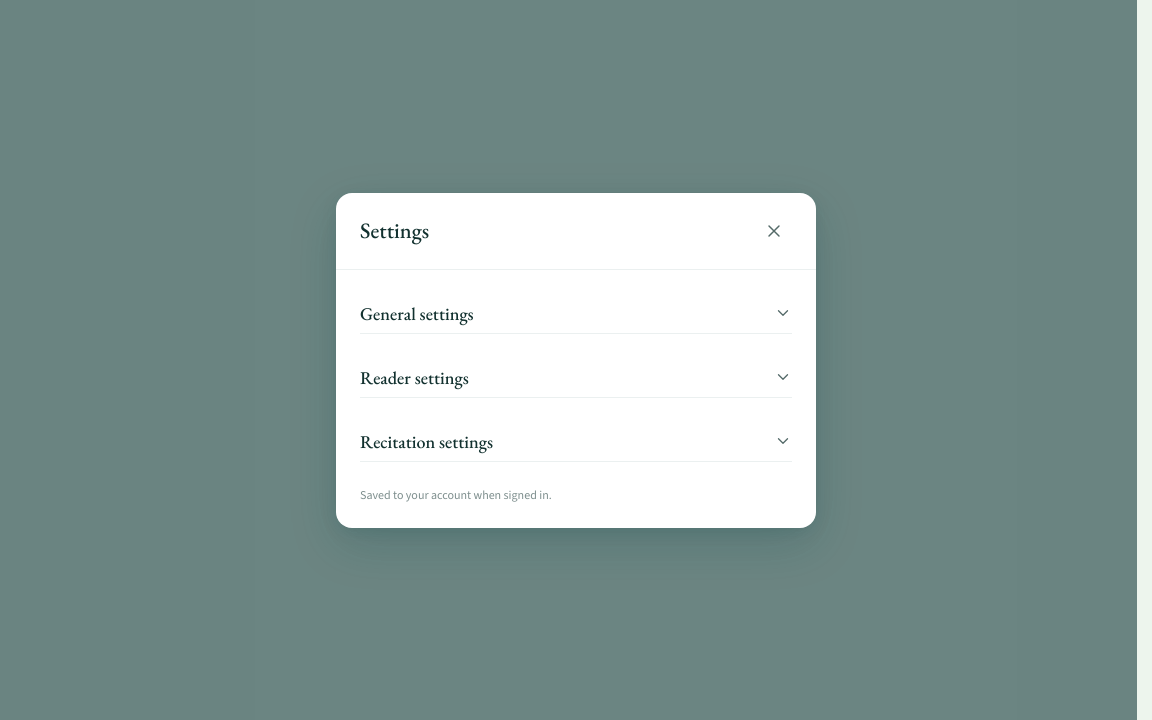
Scenario: SettingsSheet reader section › toggles open and closed
Click the button "Reader settings" at (414, 377), box [360,358,792,396]
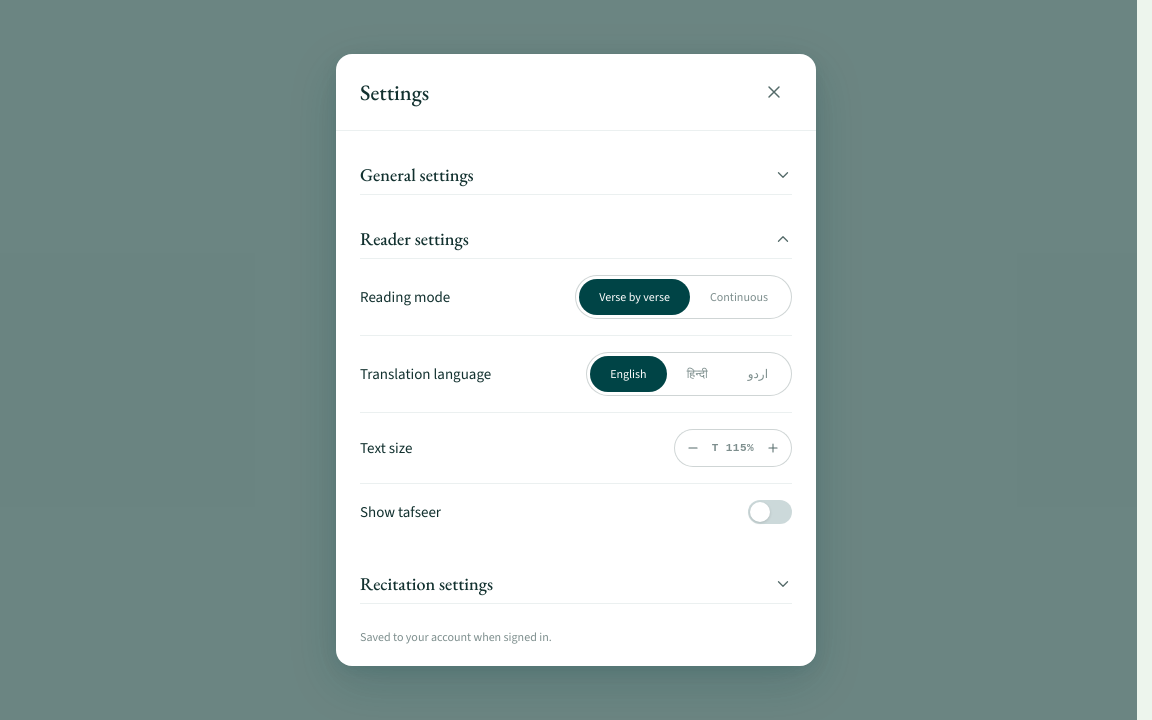
Now the button "Reader settings" is expanded
Click the button "Reader settings" at (414, 238), box [360,219,792,258]
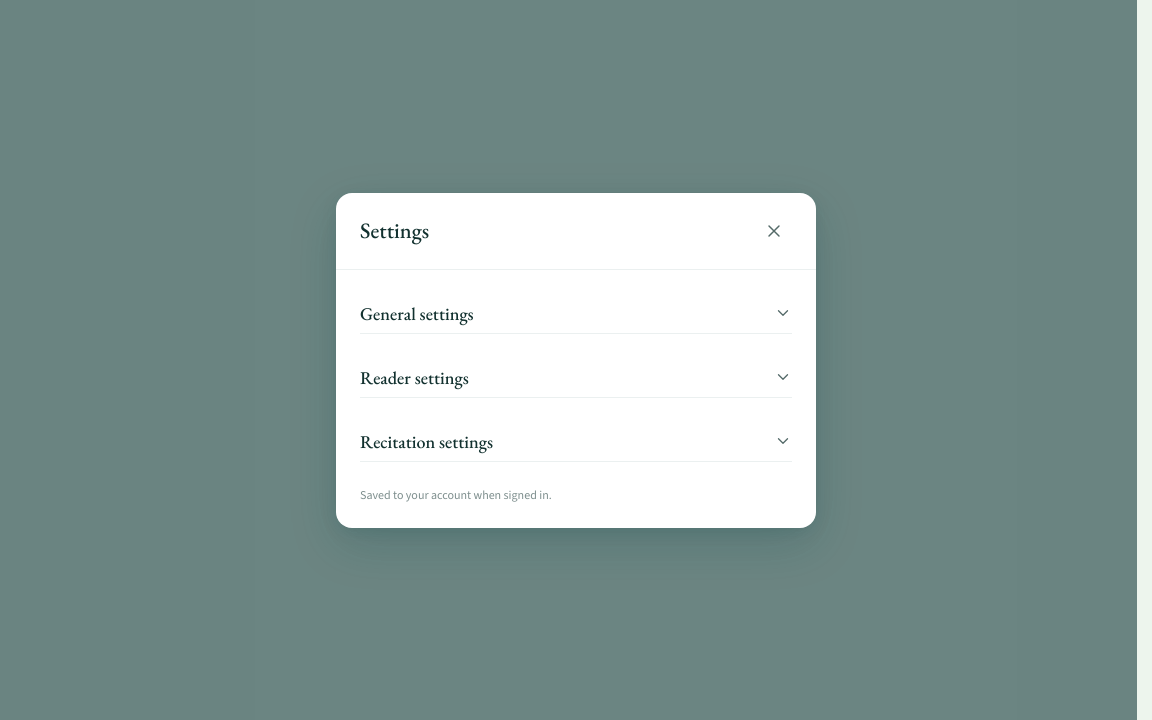
Now the button "Reader settings" is collapsed, box [360,358,792,396]
